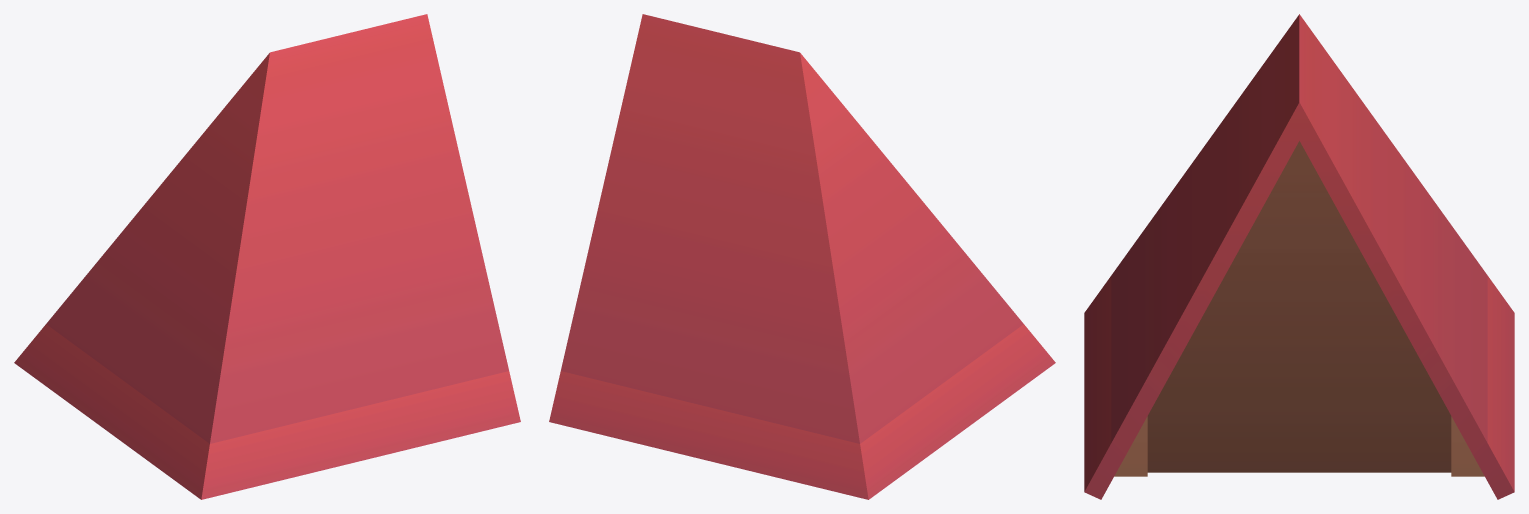
File: roof-high-gable-end.glb
The picture shows the model from 3 angles, left to right: view 1: azimuth 30°, elevation 25°; view 2: azimuth 150°, elevation 25°; view 3: azimuth 270°, elevation 25°; orthographic projection. The views are drawn at different scales.
Parts seen in each view (by area): view 1: roof-high-gable-end; view 2: roof-high-gable-end; view 3: roof-high-gable-end.
Boxes of the visible parts, x1=… form: roof-high-gable-end: x1=14, y1=14, x2=520, y2=499; roof-high-gable-end: x1=549, y1=14, x2=1055, y2=499; roof-high-gable-end: x1=1084, y1=14, x2=1514, y2=499.
Bounding box in the file's own units: 1.12 × 1.16 × 1.13.
1 material, 1 textured.
